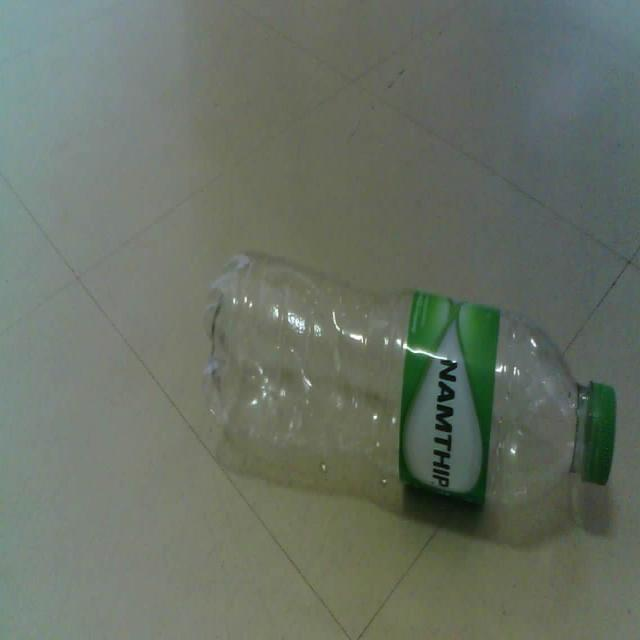empty: (205, 253, 616, 504)
